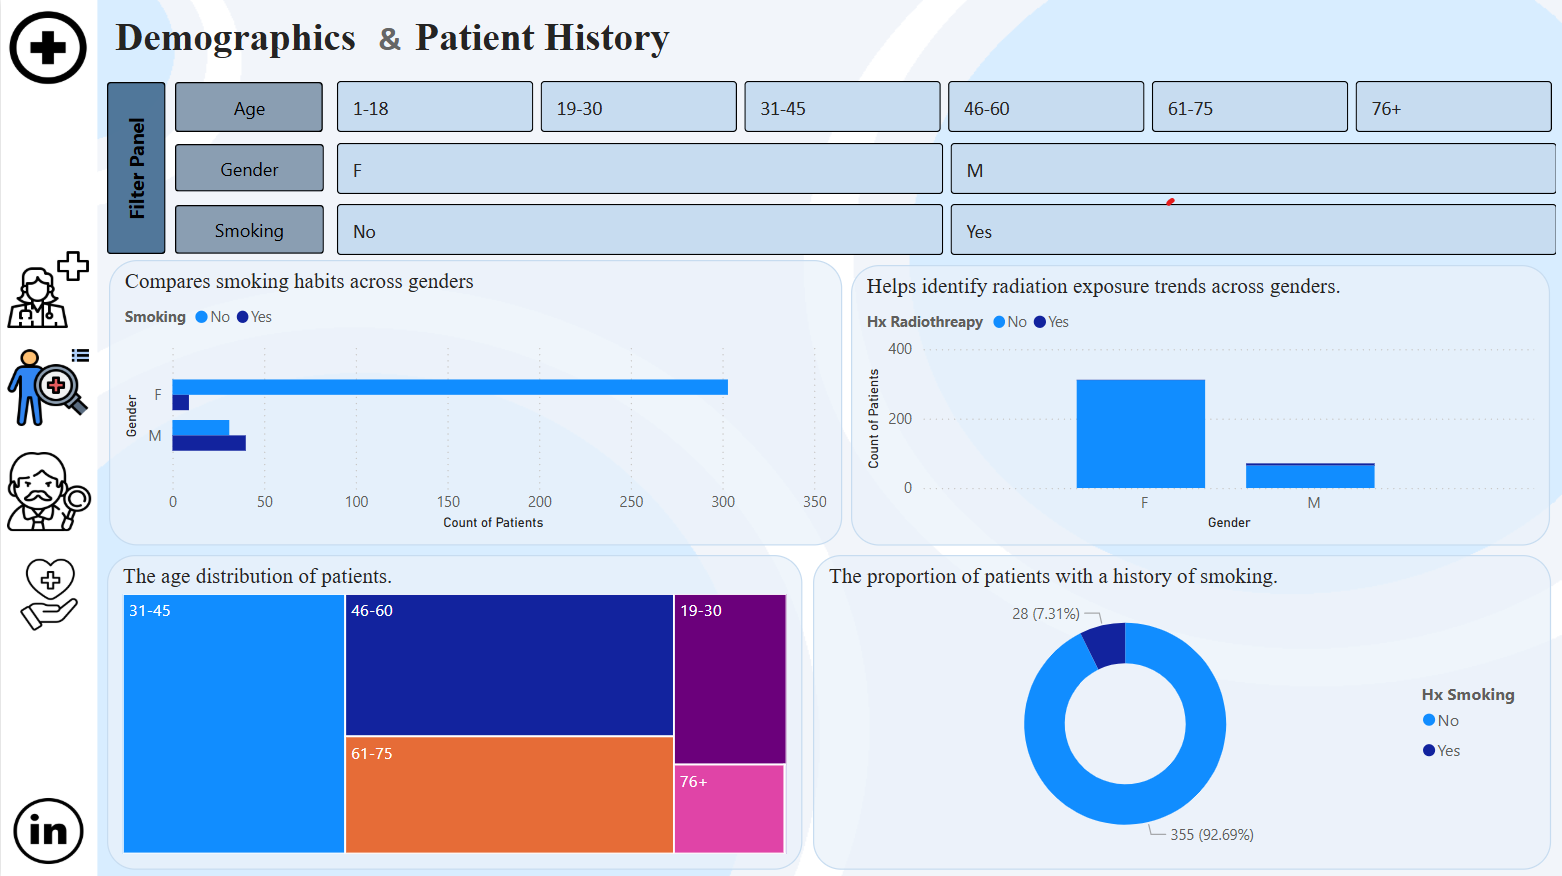

Layout of this report page (visuals, bound fields, positions):
{"tool":"powerbi","page":{"name":"Demographics   &  Patient History","canvas":[1280,720],"ordinal":3},"visuals":[{"type":"treemap","title":"The age distribution of patients.","fields":{"Values":["Sum(Thyroid_Diff.Row Number)"],"Group":["Thyroid_Diff.Age Group"]},"box":[86.5,454.8,570,257.7],"z":0},{"type":"clusteredBarChart","title":"Compares smoking habits across genders","fields":{"Category":["Thyroid_Diff.Gender"],"Series":["Thyroid_Diff.Smoking"],"Y":["CountNonNull(Thyroid_Diff.Row Number)"]},"box":[88.5,213.5,601,233.7],"z":1000},{"type":"donutChart","title":"The proportion of patients with a history of smoking.","fields":{"Category":["Thyroid_Diff.Hx Smoking"],"Y":["CountNonNull(Thyroid_Diff.Hx Smoking)"]},"box":[665.4,454.8,604.8,257.7],"z":2000},{"type":"columnChart","title":"Helps identify radiation exposure trends across genders.","fields":{"Category":["Thyroid_Diff.Gender"],"Series":["Thyroid_Diff.Hx Radiothreapy"],"Y":["CountNonNull(Thyroid_Diff.Row Number)"]},"box":[697.1,217.3,573.1,229.8],"z":3000},{"type":"advancedSlicerVisual","fields":{"Values":["Thyroid_Diff.Age Group"]},"box":[271.2,62.5,1008.7,51],"z":4000},{"type":"shape","box":[142.3,67.3,122.1,41.3],"z":5000},{"type":"advancedSlicerVisual","fields":{"Values":["Thyroid_Diff.Gender"]},"box":[271.2,113.5,1008.7,50],"z":6000},{"type":"shape","box":[142.3,118.3,122.1,39.4],"z":7000},{"type":"advancedSlicerVisual","fields":{"Values":["Thyroid_Diff.Smoking"]},"box":[271.2,163.5,1008.7,50],"z":8000},{"type":"shape","box":[142.3,168.3,122.1,40.4],"z":9000},{"type":"shape","box":[86.5,67.3,48.1,141.3],"z":10000},{"type":"shape","box":[0,0,79,719.8],"z":11000},{"type":"textbox","box":[88.5,7.7,576.9,59.6],"z":12000},{"type":"image","box":[4.8,454.8,69.2,65.4],"z":13000},{"type":"image","box":[4.8,370.2,69.2,65.4],"z":14000},{"type":"image","box":[4,285,69,65],"z":15000},{"type":"image","box":[4,205,69,65],"z":16000},{"type":"image","box":[3.8,6.7,69.2,65.4],"z":17000},{"type":"image","box":[4.9,649.2,68,63.9],"z":17001}]}

Visuals, with their boxes in screenshot pixels (x1, y1, x2, y2), scaled from the page's 1280x720 canvas onto the 1562x876 screenshot:
"The age distribution of patients." treemap: (106,553,801,867)
"Compares smoking habits across genders" clusteredBarChart: (108,260,841,544)
"The proportion of patients with a history of smoking." donutChart: (812,553,1550,867)
"Helps identify radiation exposure trends across genders." columnChart: (851,264,1550,544)
advancedSlicerVisual - Thyroid_Diff.Age Group: (331,76,1561,138)
shape: (174,82,323,132)
advancedSlicerVisual - Thyroid_Diff.Gender: (331,138,1561,199)
shape: (174,144,323,192)
advancedSlicerVisual - Thyroid_Diff.Smoking: (331,199,1561,260)
shape: (174,205,323,254)
shape: (106,82,164,254)
shape: (0,0,96,875)
textbox: (108,9,812,82)
image: (6,553,90,633)
image: (6,450,90,530)
image: (5,347,89,426)
image: (5,249,89,328)
image: (5,8,89,88)
image: (6,790,89,868)
